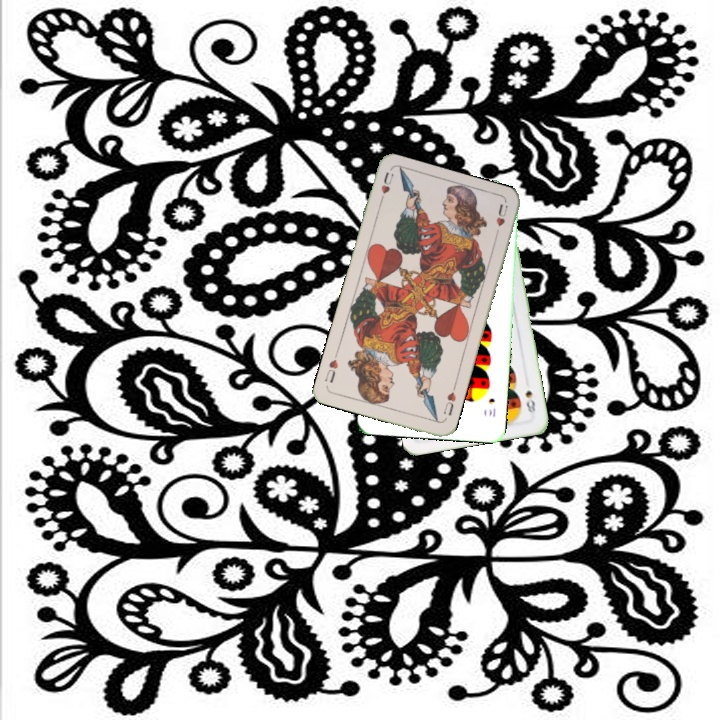HU: (375, 168, 396, 207), (439, 382, 458, 418)
S10: (485, 394, 498, 419)
S8: (521, 386, 538, 415)
